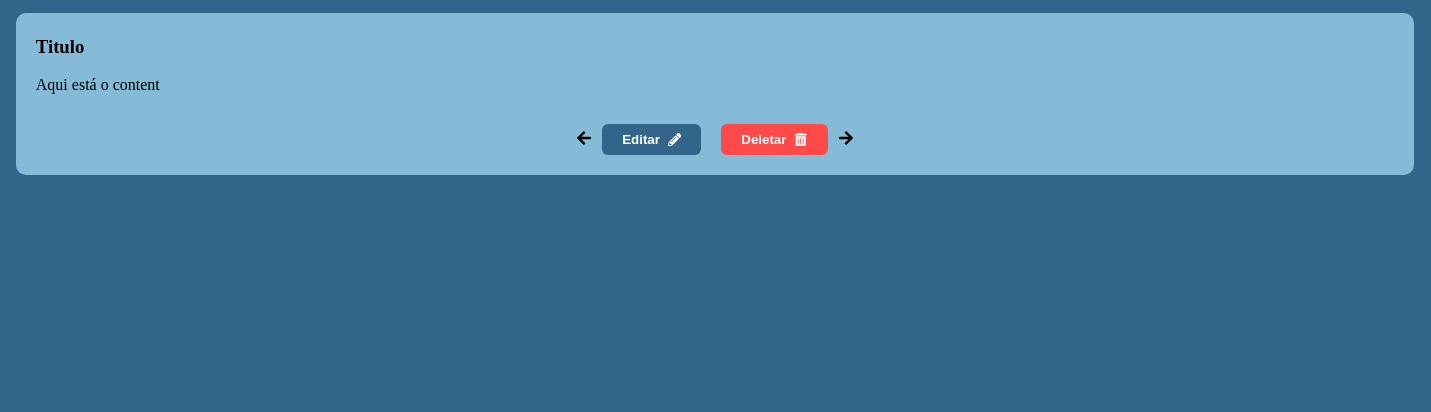
Scenario: Card › Verify that the component renders correctly when in edit mode.
The width and height of the screenshot is (1431, 412).
What coordinates should you click on to do the following:
click the button "Editar"
I would click on:
 (652, 140)
Its box is x1=602 y1=124 x2=701 y2=155.
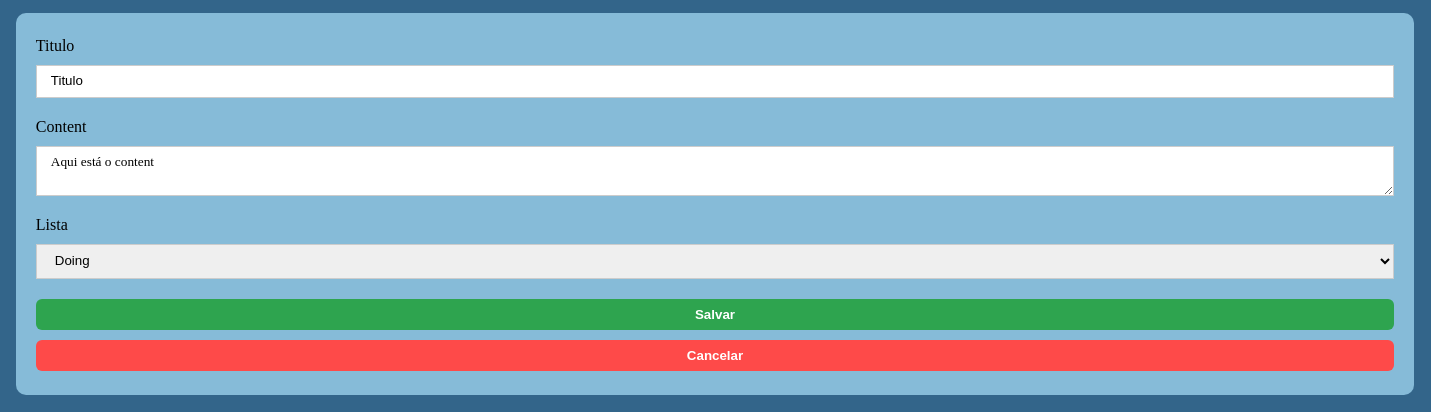
Check: the form with test id "formCard" is shown
